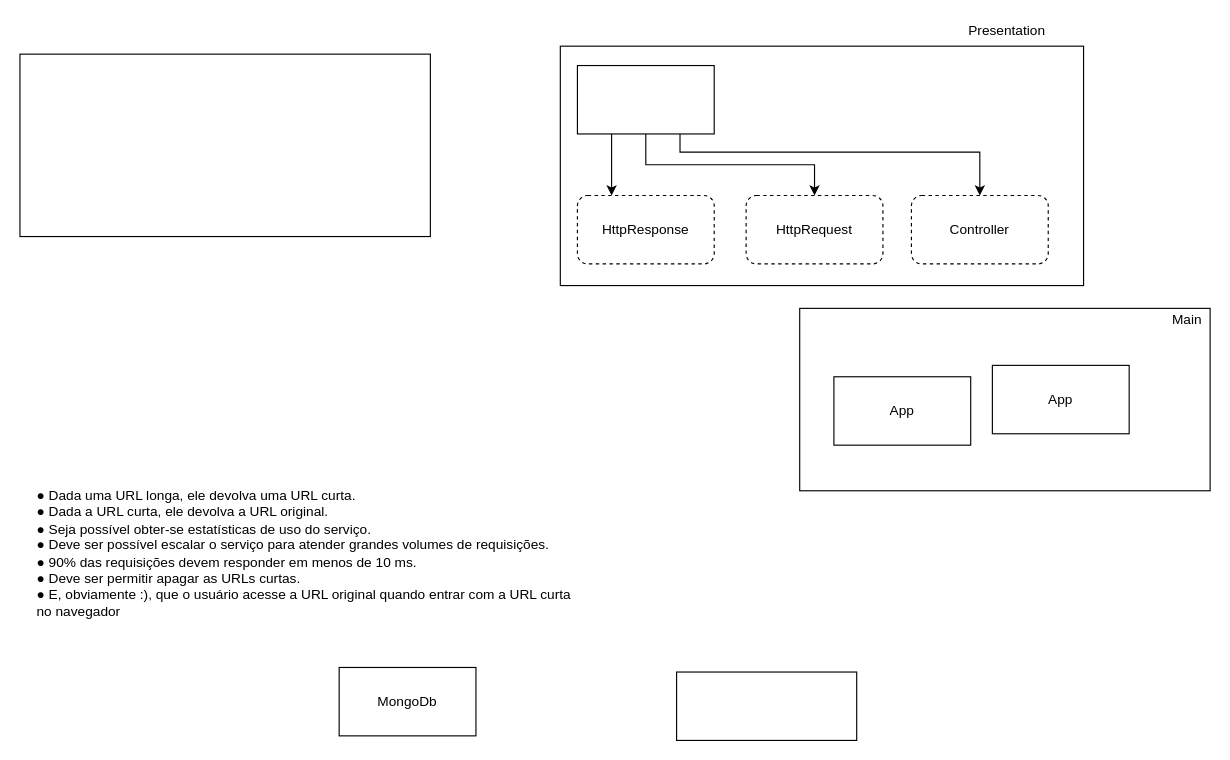
Image size: 1230x760. Some labels were removed from this diagram. Each missing label, with the centre of its shape:
ExpressRouteAdapter: (x=766, y=705)
ShortenerController: (x=645, y=99)
